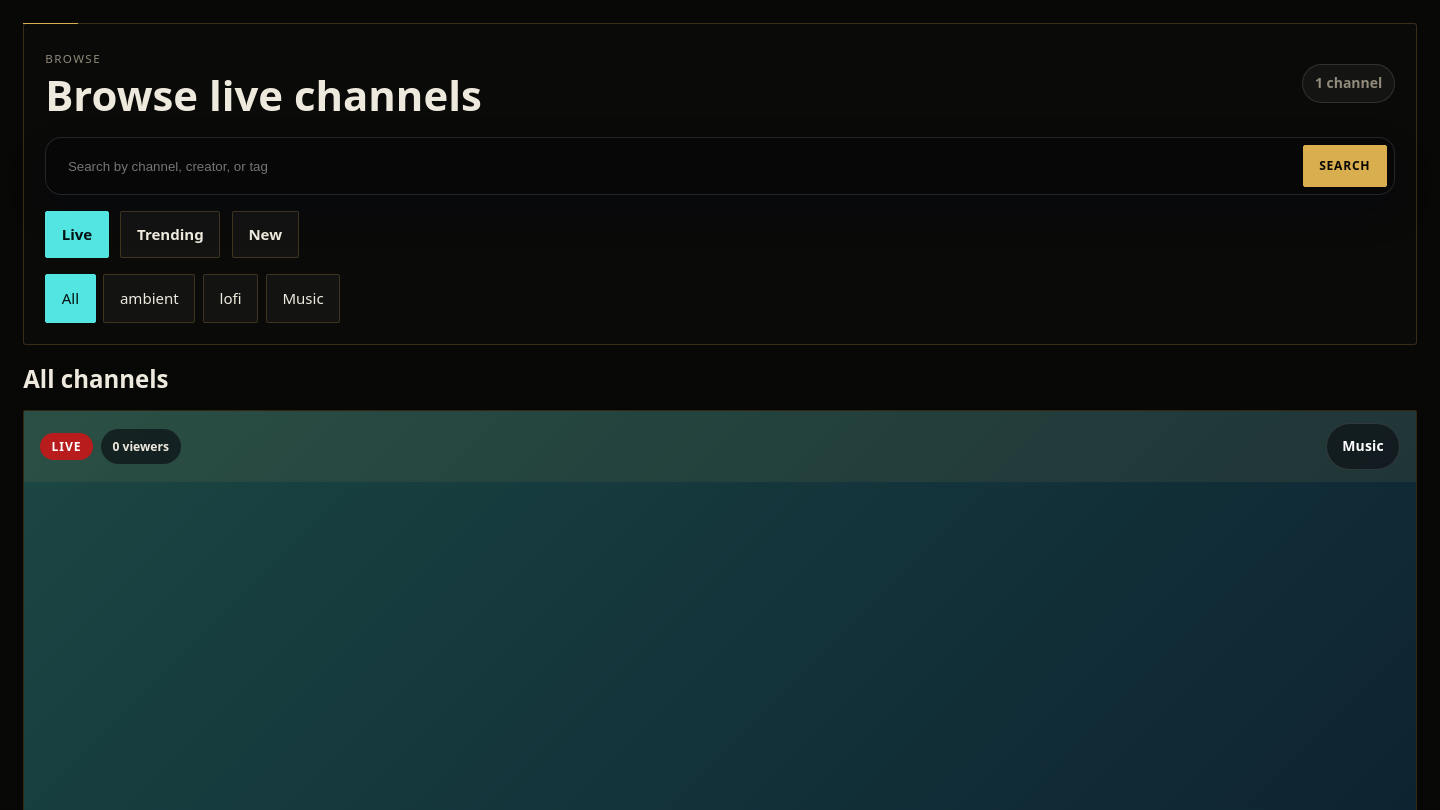
Scenario: BrowsePage › keeps discovered filters visible after search narrows the result set
expect the button "Music" is shown: met, box [266,274,340,323]
Type "retro" into the search field named "search channels".
click(672, 166); type("retro")  # box [53,145,1291,187]
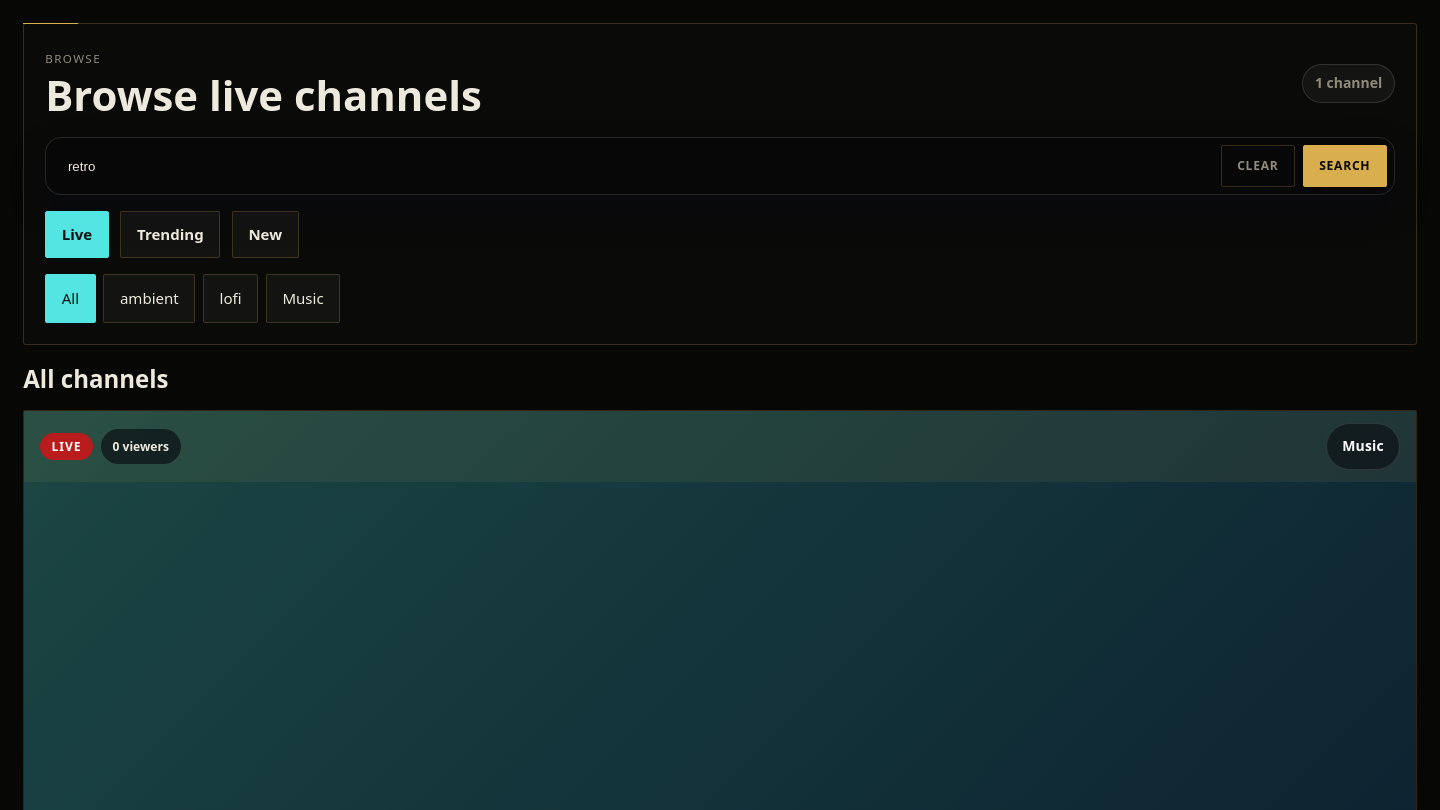
Click the button "Search".
click(1345, 166)  # box [1303,145,1387,187]
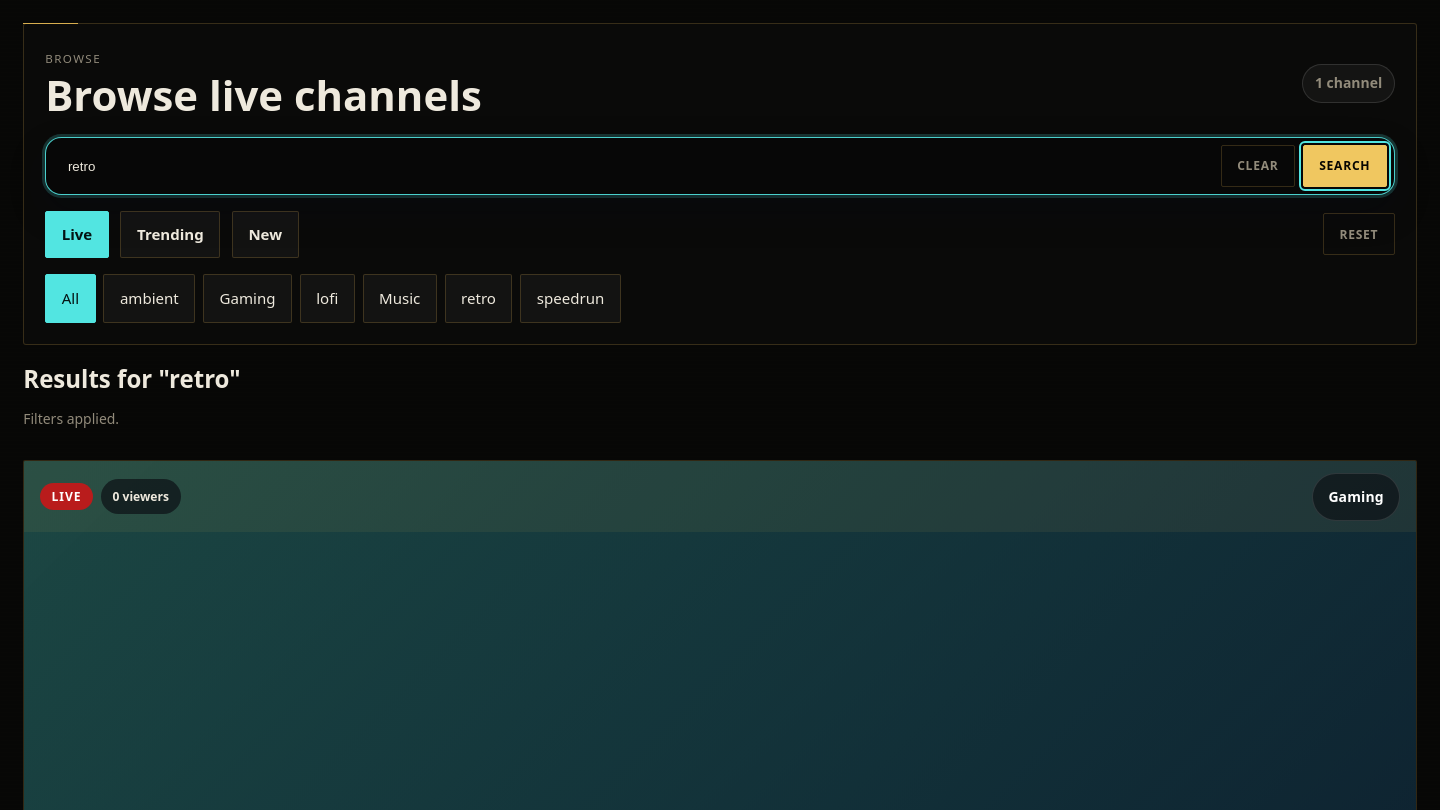
expect the button "Music" is shown: met, box [362,274,437,323]
expect the button "Gaming" is shown: met, box [203,274,292,323]
